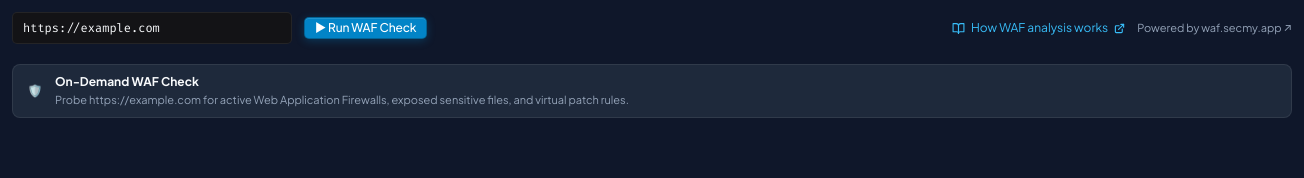
Test: WafCheckPanel Component › allows editing target URL locally without modifying config.base_url and uses edited value
In the field with test id "waf-target-input": (152, 28) [12, 12, 292, 44], type "https://custom-target.org"
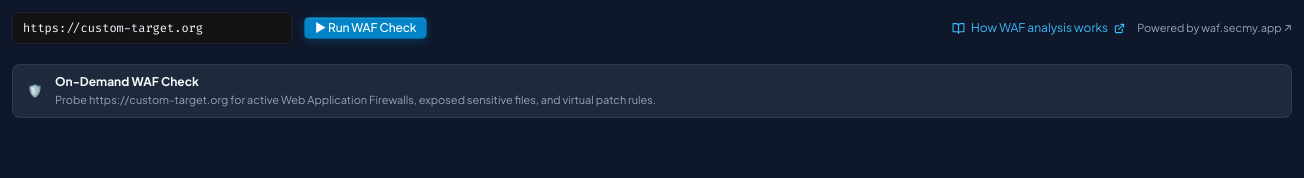
Click the button with test id "run-waf-check-btn": (366, 28) [304, 17, 427, 39]
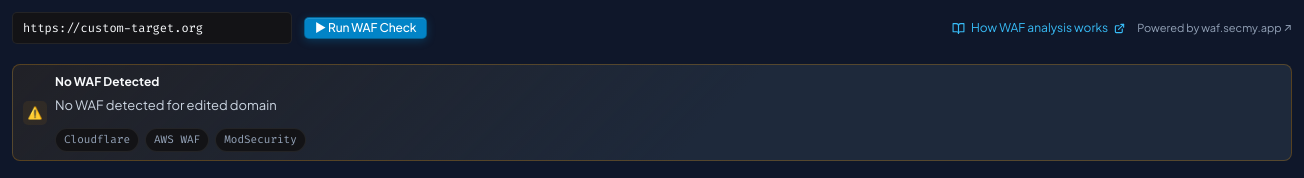
Check: the element with test id "waf-check-recommendation" is shown, box [12, 64, 1292, 161]
